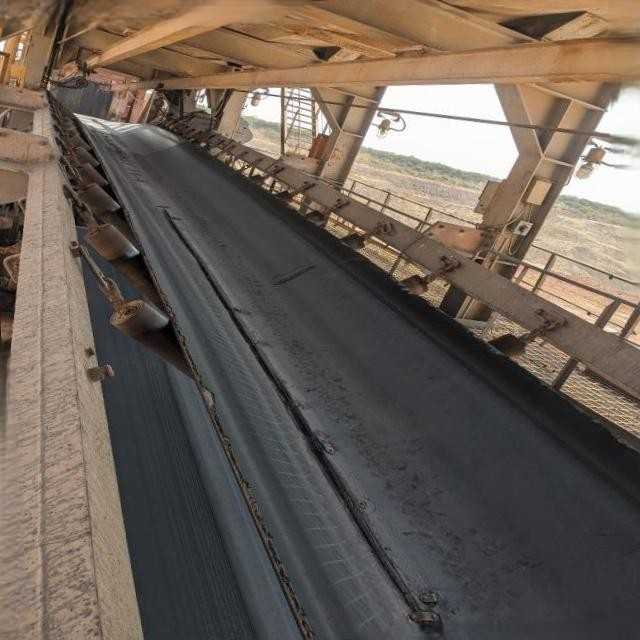Tear: (153, 192, 438, 640)
